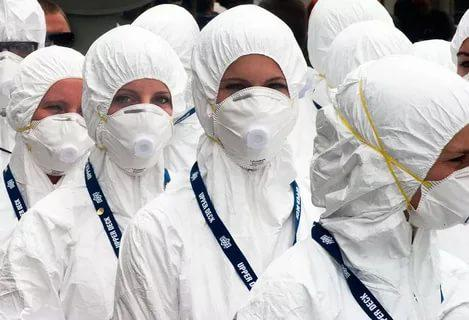mask: (205, 51, 294, 163), (402, 115, 469, 223), (102, 74, 175, 170), (28, 75, 90, 168)
